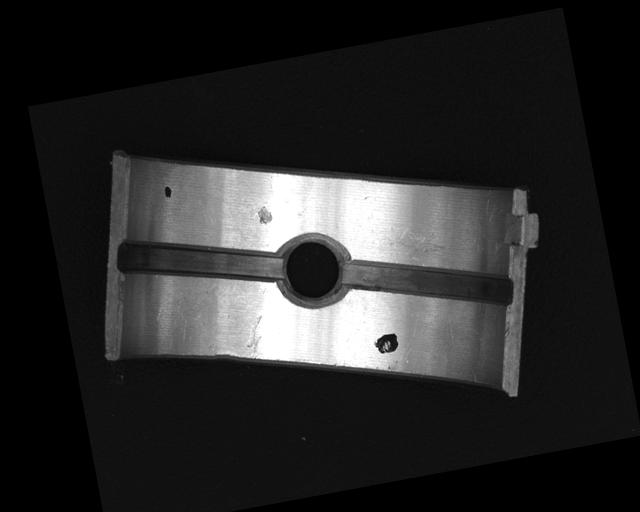blot: (372, 331, 401, 355), (162, 185, 174, 198)
bruise: (256, 203, 273, 226)
gap: (340, 232, 515, 331), (113, 214, 285, 303)
hole: (273, 227, 355, 311)
nick: (241, 313, 270, 358)
scratch: (392, 215, 472, 272)
